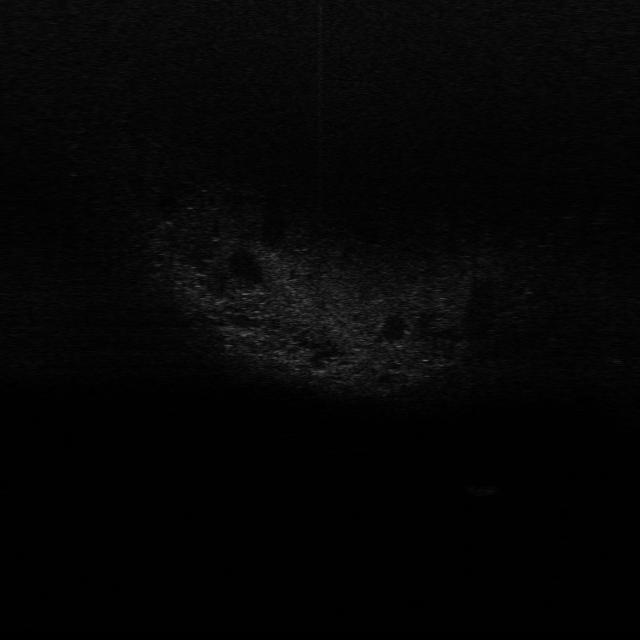cube: (464, 484, 500, 497)
